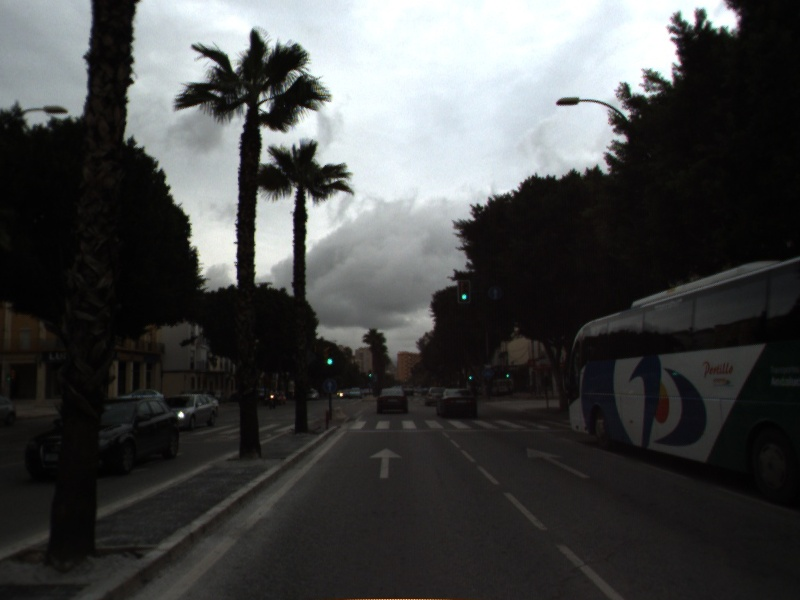STRAIGHT: (524, 445, 593, 481), (367, 445, 405, 480)
